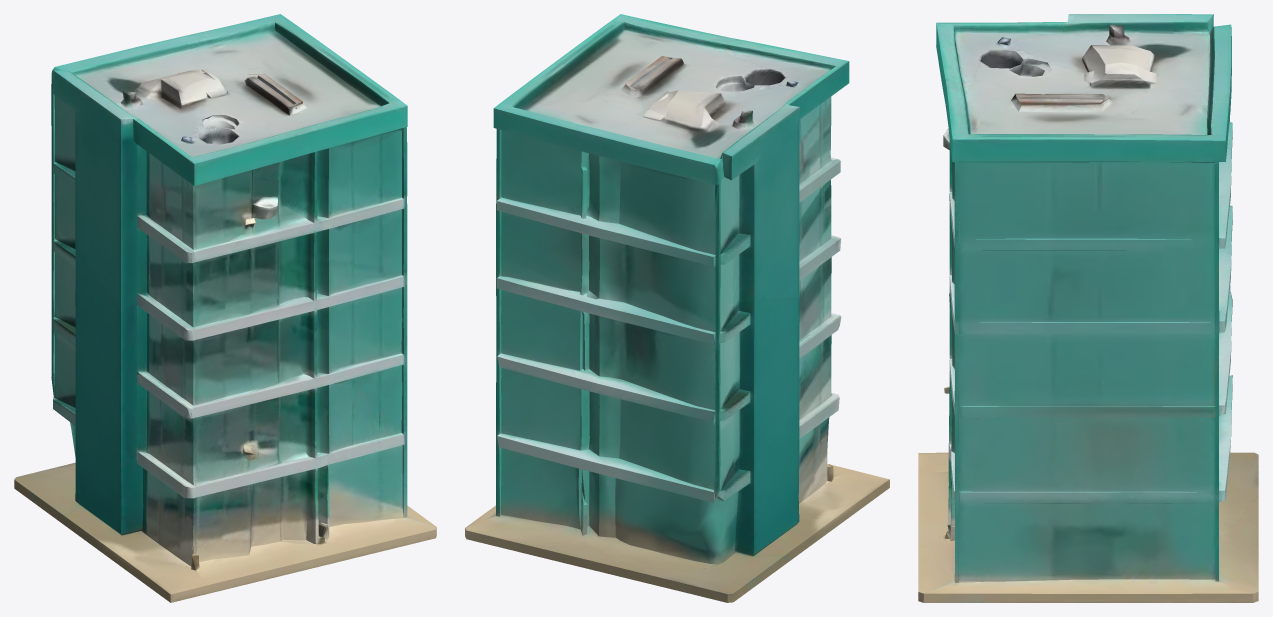
Rendered from cityGlassOffice.glb.
3 renders of one model, left to right at view 1: azimuth 30°, elevation 25°; view 2: azimuth 150°, elevation 25°; view 3: azimuth 270°, elevation 25°, orthographic. The views are drawn at different scales.
Parts seen in each view (by area): view 1: model; view 2: model; view 3: model.
Boxes of the visible parts, x1,y1,x2,y2 form: model: (14,14,436,602); model: (465,14,889,602); model: (918,14,1258,602).
Size of the model in its own units: 1.24 by 1.9 by 1.26.
Materials: 1 (1 with a texture image).
